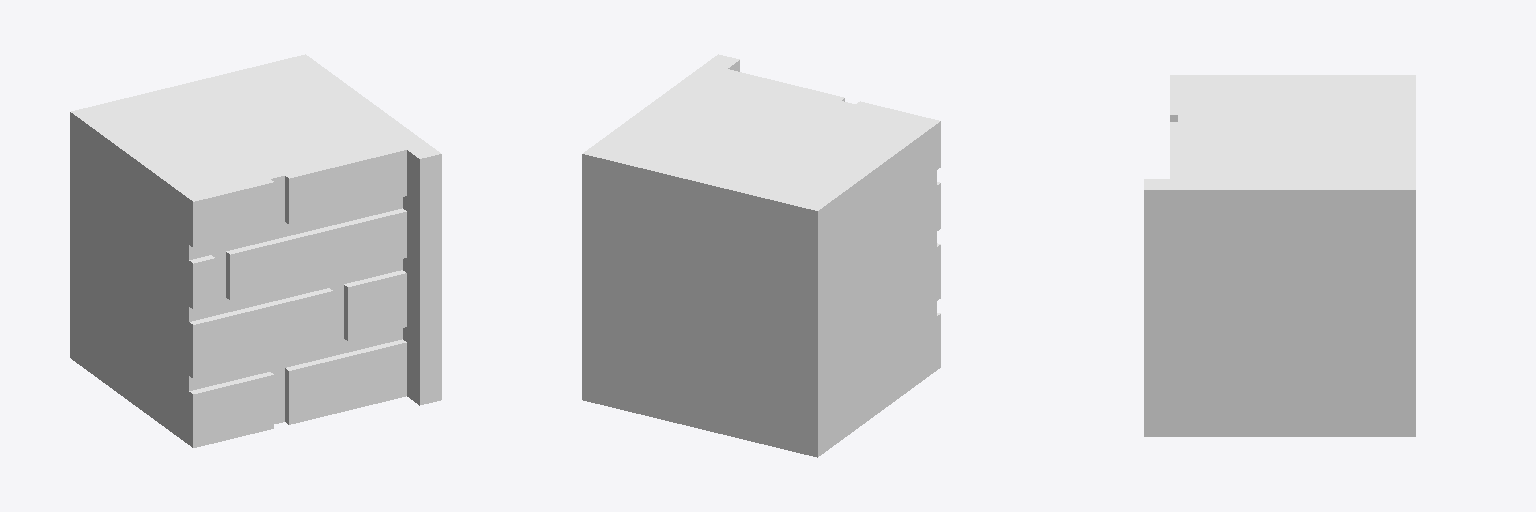
Rendered from stone_bricks-3.obj.
3 renders of one model, left to right at view 1: azimuth 30°, elevation 25°; view 2: azimuth 150°, elevation 25°; view 3: azimuth 270°, elevation 25°, orthographic.
Visible parts, largest first — view 1: object 1; view 2: object 1; view 3: object 1.
Boxes of the visible parts, x1=… form: object 1: x1=70, y1=54, x2=441, y2=447; object 1: x1=582, y1=54, x2=940, y2=457; object 1: x1=1144, y1=75, x2=1415, y2=436.
Bounding box in the file's own units: 3.2 × 3.2 × 3.2.